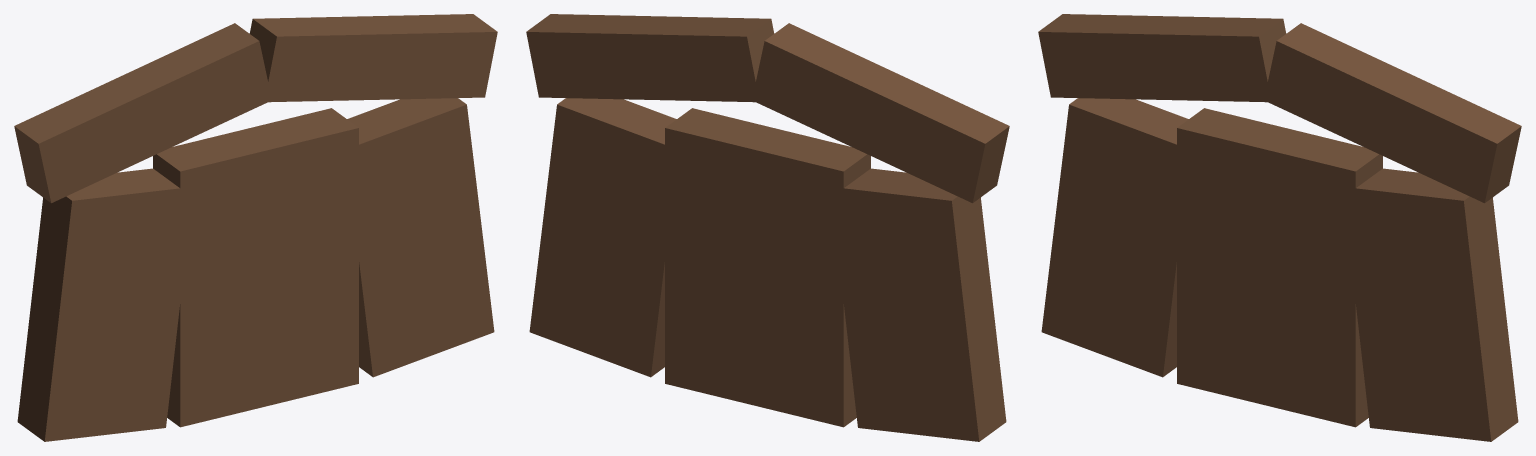
The model's file is template-facial-hair.glb.
The picture shows the model from 3 angles, left to right: view 1: azimuth 30°, elevation 25°; view 2: azimuth 150°, elevation 25°; view 3: azimuth 330°, elevation 25°; orthographic projection.
Parts seen in each view (by area): view 1: Beard_Center, Beard_L, Beard_R, Mustache_L, Mustache_R; view 2: Beard_Center, Beard_L, Beard_R, Mustache_L, Mustache_R; view 3: Beard_Center, Beard_R, Beard_L, Mustache_R, Mustache_L.
Boxes of the visible parts, box(x1,y1,x2,y2) form: Beard_Center: box(153, 108, 358, 427); Beard_L: box(17, 168, 193, 441); Beard_R: box(345, 98, 494, 377); Mustache_L: box(14, 23, 271, 203); Mustache_R: box(249, 14, 497, 102); Beard_Center: box(665, 108, 870, 427); Beard_L: box(830, 168, 1006, 441); Beard_R: box(529, 98, 677, 377); Mustache_L: box(752, 23, 1009, 203); Mustache_R: box(526, 14, 774, 102); Beard_Center: box(1177, 108, 1382, 427); Beard_R: box(1342, 168, 1518, 441); Beard_L: box(1041, 98, 1189, 377); Mustache_R: box(1264, 23, 1521, 203); Mustache_L: box(1038, 14, 1286, 102).
Size of the model in its own units: 0.4883 by 0.3717 by 0.05.
